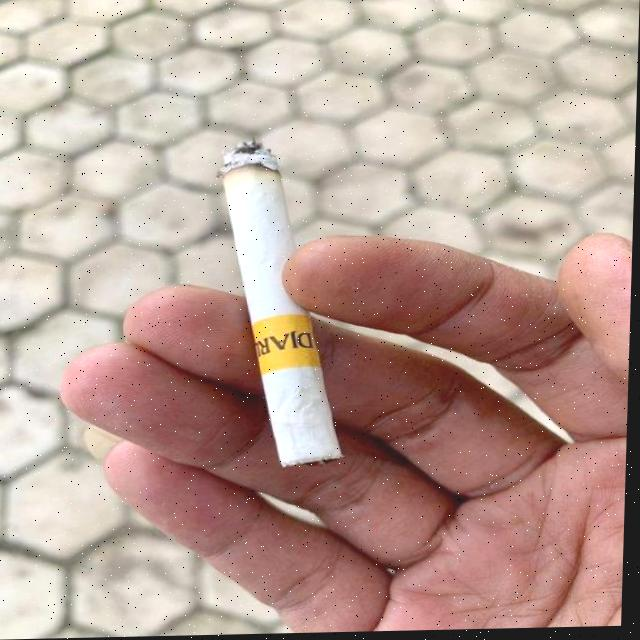cigarette: (207, 140, 356, 472)
